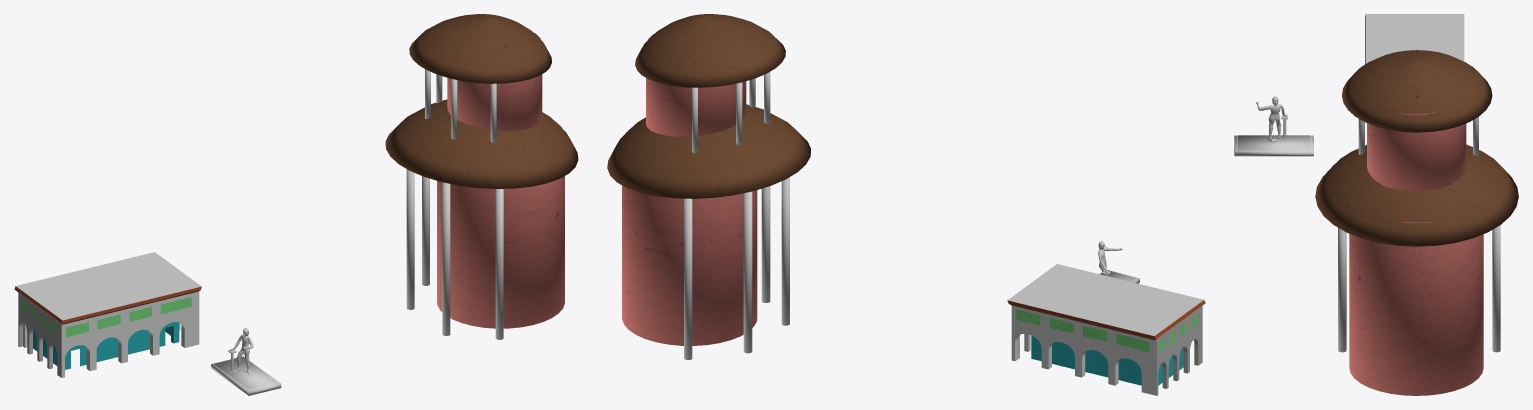
File: KiricoMap2.obj
The picture shows the model from 3 angles, left to right: view 1: azimuth 30°, elevation 25°; view 2: azimuth 150°, elevation 25°; view 3: azimuth 270°, elevation 25°; orthographic projection. The views are drawn at different scales.
Parts seen in each view (by area): view 1: ConstructionBase_Cylinder.007, BuildingRoof_Cube.054, Arco_Cube.005, statue.new.2_Cube.014, BuildingExt.002_Cube.036; view 2: ConstructionBase_Cylinder.007, BuildingRoof_Cube.054, Arco_Cube.005, BuildingExt.002_Cube.036; view 3: ConstructionBase_Cylinder.007, BuildingRoof_Cube.054, statue.new.2_Cube.014.
Boxes of the visible parts, bbox=[...] form: ConstructionBase_Cylinder.007: bbox=[385, 14, 578, 339]; BuildingRoof_Cube.054: bbox=[14, 252, 201, 324]; Arco_Cube.005: bbox=[18, 291, 199, 377]; statue.new.2_Cube.014: bbox=[211, 328, 281, 395]; BuildingExt.002_Cube.036: bbox=[33, 322, 179, 369]; ConstructionBase_Cylinder.007: bbox=[607, 14, 810, 359]; BuildingRoof_Cube.054: bbox=[1007, 264, 1205, 340]; Arco_Cube.005: bbox=[1011, 305, 1202, 395]; BuildingExt.002_Cube.036: bbox=[1031, 335, 1183, 385]; ConstructionBase_Cylinder.007: bbox=[1315, 50, 1518, 395]; BuildingRoof_Cube.054: bbox=[1365, 14, 1464, 64]; statue.new.2_Cube.014: bbox=[1234, 96, 1313, 156].
Bounding box in the file's own units: 61.4 × 31.97 × 27.34.
Materials: 9 (5 with a texture image).
